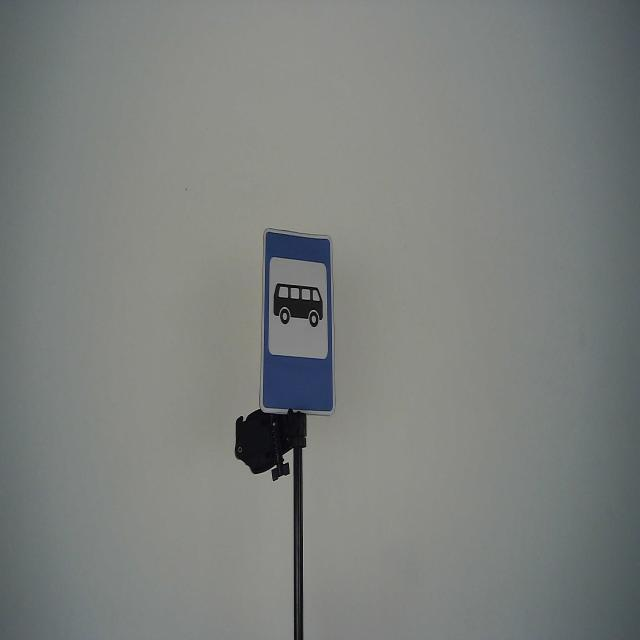bus_stop: (258, 226, 338, 417)
